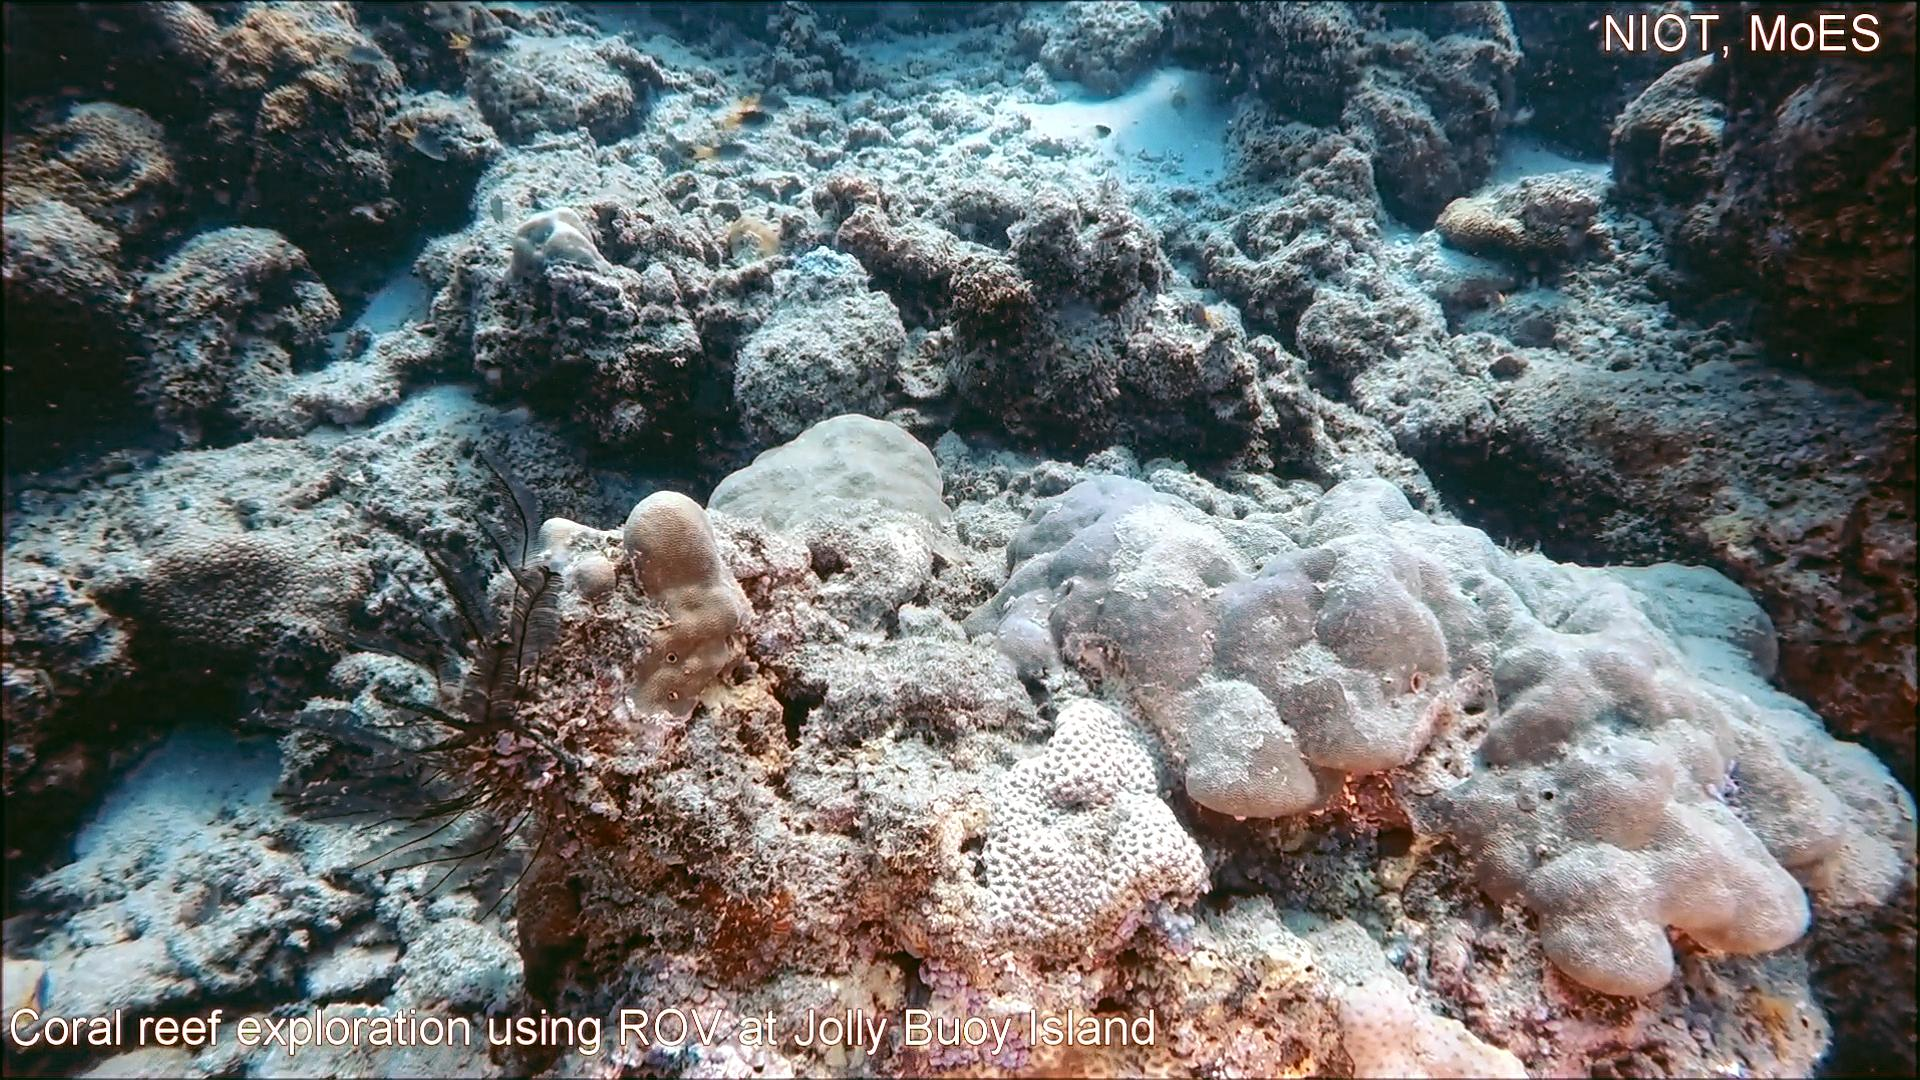Feather star-Crinoid star: (272, 438, 595, 936)
Goniastrea-Goniastrea pectinata: (972, 688, 1222, 978)
Porites-Porites pukoensis: (1309, 472, 1920, 1006)
Turbinaria-Turbinaria stellulata: (120, 526, 385, 671)
